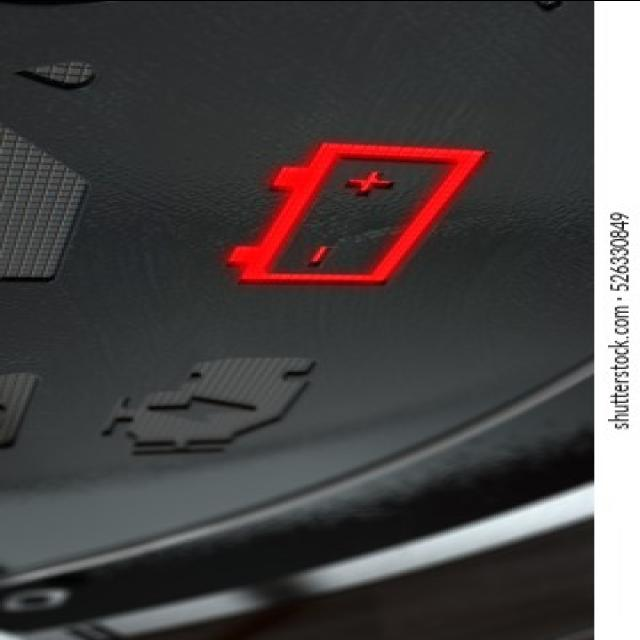Charging System Issue: (220, 136, 496, 288)
